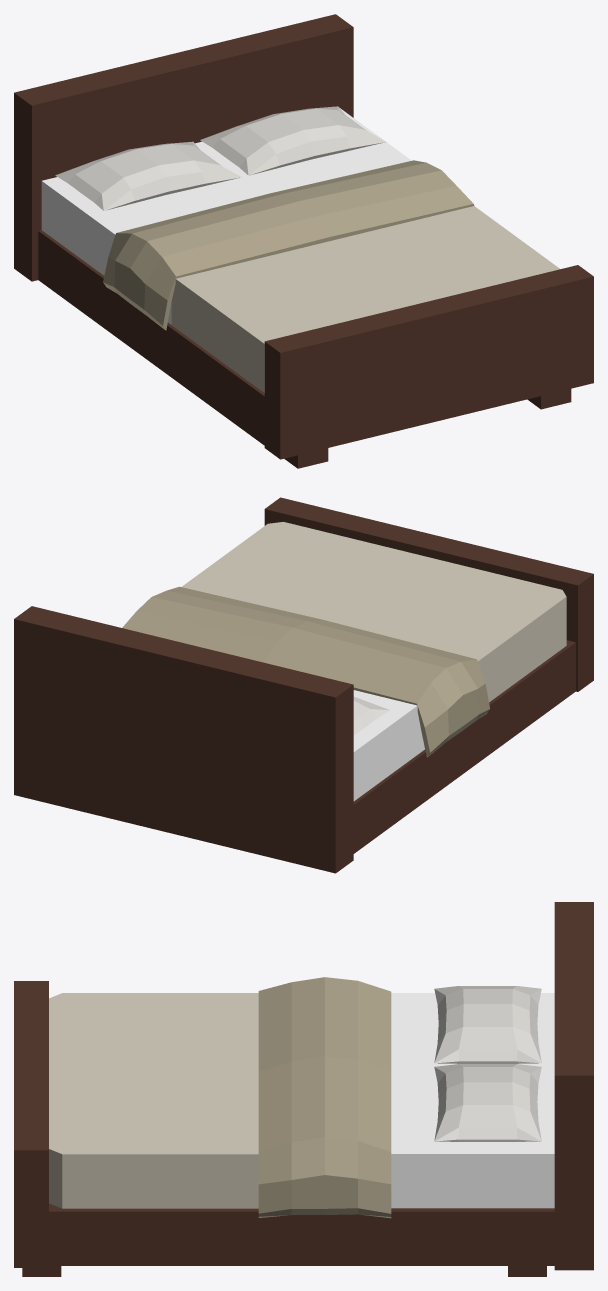
The model's file is Bed_2B.fbx.
The picture shows the model from 3 angles, top to bottom: view 1: azimuth 30°, elevation 25°; view 2: azimuth 150°, elevation 25°; view 3: azimuth 270°, elevation 25°; orthographic projection. The views are drawn at different scales.
Visible parts, largest first — view 1: polySurface2219; view 2: polySurface2219; view 3: polySurface2219.
Part boxes in pixels (x1=…): polySurface2219: x1=14, y1=14, x2=593, y2=468; polySurface2219: x1=14, y1=497, x2=593, y2=873; polySurface2219: x1=14, y1=902, x2=593, y2=1276.
Bounding box in the file's own units: 2.11 × 1.18 × 2.9.
1 material, 1 textured.
